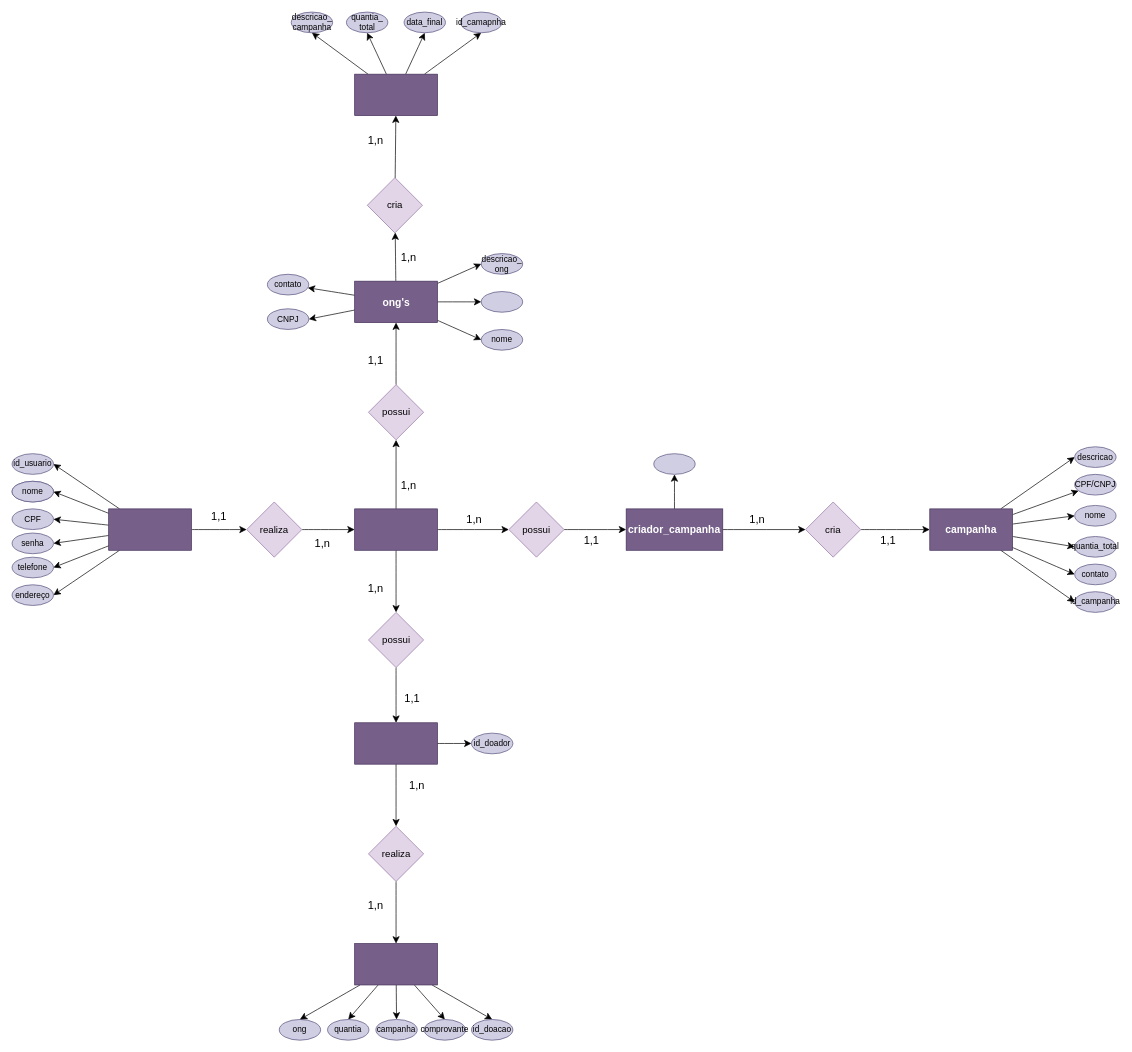
Some shapes in this 1132 by 1052 pixel diagram are drawn without their labels. Each missing label, with the box of its shape:
cadastro: (354, 508, 437, 550)
campanha_ong: (354, 73, 437, 116)
doacao: (354, 943, 437, 985)
doador: (354, 722, 437, 764)
id_criador: (653, 453, 695, 474)
id_ong: (481, 291, 523, 312)
usuario: (108, 508, 191, 550)
